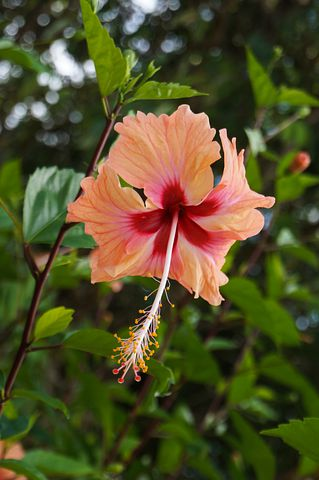Hibiscus: (69, 102, 279, 381)
